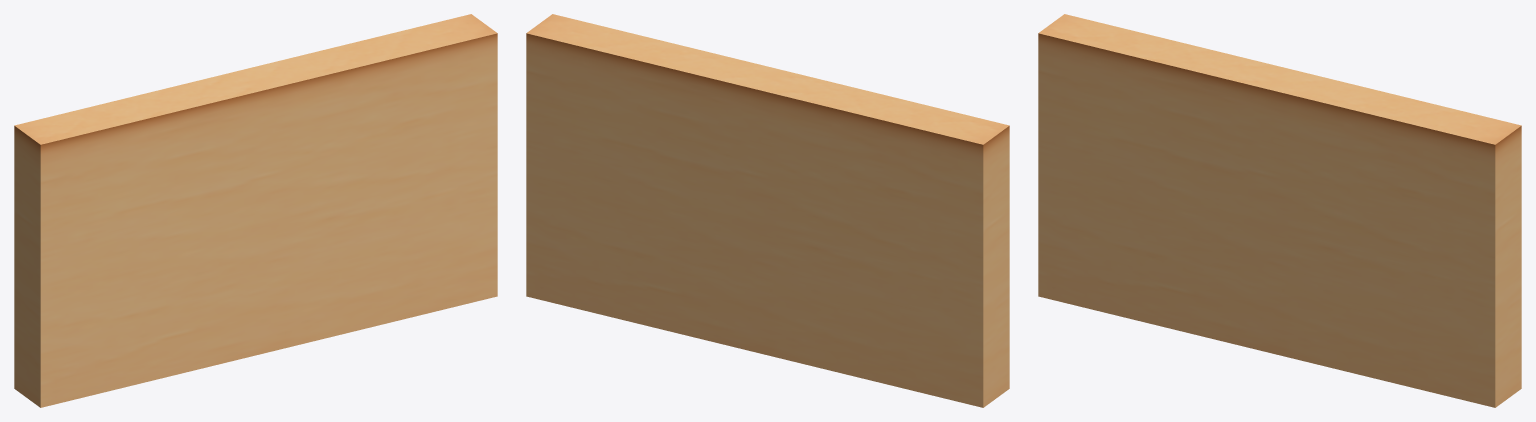
Rendered from Wall_DoorLintel_1m.fbx.
3 views of the same model, side by side, from view 1: azimuth 30°, elevation 25°; view 2: azimuth 150°, elevation 25°; view 3: azimuth 330°, elevation 25° (orthographic).
Parts seen in each view (by area): view 1: Wall_DoorLintel_1m; view 2: Wall_DoorLintel_1m; view 3: Wall_DoorLintel_1m.
Part boxes in pixels (bbox=[...]): Wall_DoorLintel_1m: bbox=[14, 14, 497, 407]; Wall_DoorLintel_1m: bbox=[526, 14, 1009, 407]; Wall_DoorLintel_1m: bbox=[1038, 14, 1521, 407].
Size of the model in its own units: 1 by 0.55 by 0.1.
